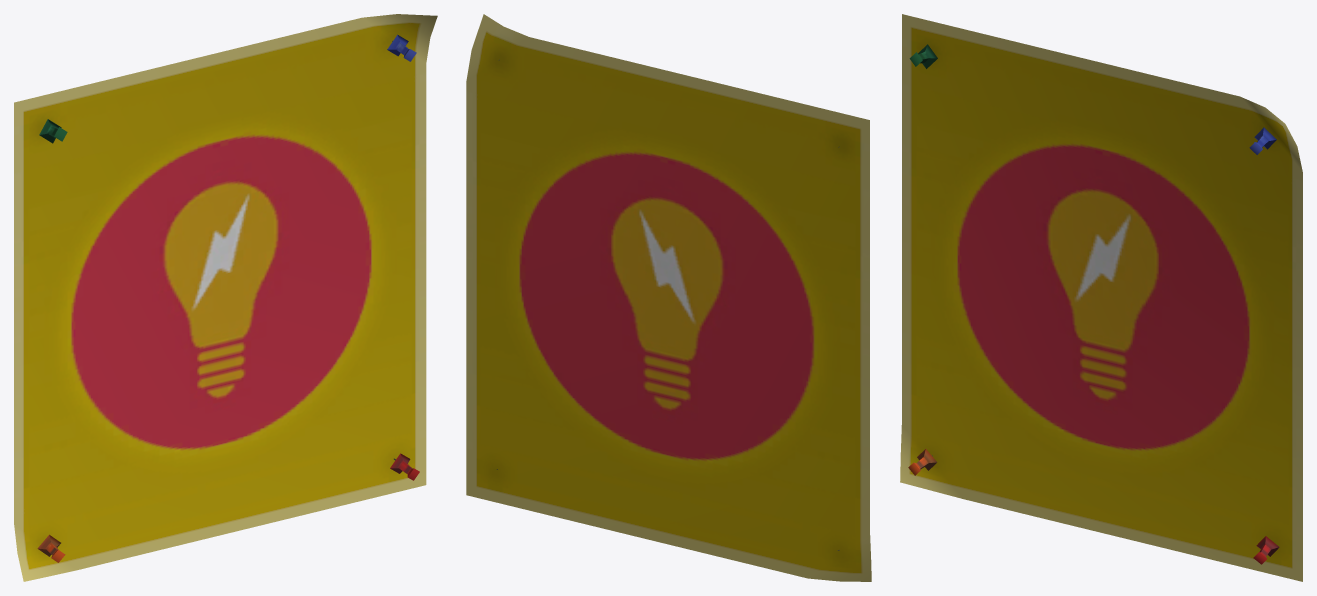
Rendered from posterElectricidad.fbx.
3 views of the same model, side by side, from view 1: azimuth 30°, elevation 25°; view 2: azimuth 150°, elevation 25°; view 3: azimuth 330°, elevation 25° (orthographic). The views are drawn at different scales.
Parts seen in each view (by area): view 1: s4studio_mesh_0; view 2: s4studio_mesh_0; view 3: s4studio_mesh_0.
Boxes of the visible parts, left/top/right/bottom form: s4studio_mesh_0: left=14, top=14, right=437, bottom=581; s4studio_mesh_0: left=466, top=14, right=871, bottom=581; s4studio_mesh_0: left=900, top=14, right=1302, bottom=581.
Bounding box in the file's own units: 74.56 × 83.53 × 5.9.
1 material, 1 textured.
